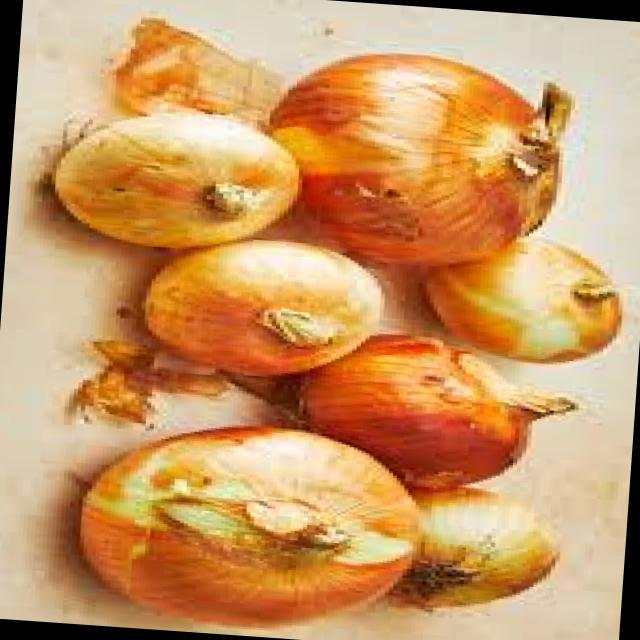Onion: (239, 30, 581, 288), (60, 406, 431, 640), (286, 314, 592, 496), (38, 81, 310, 271), (128, 223, 394, 391), (398, 218, 634, 384), (368, 475, 572, 628)
